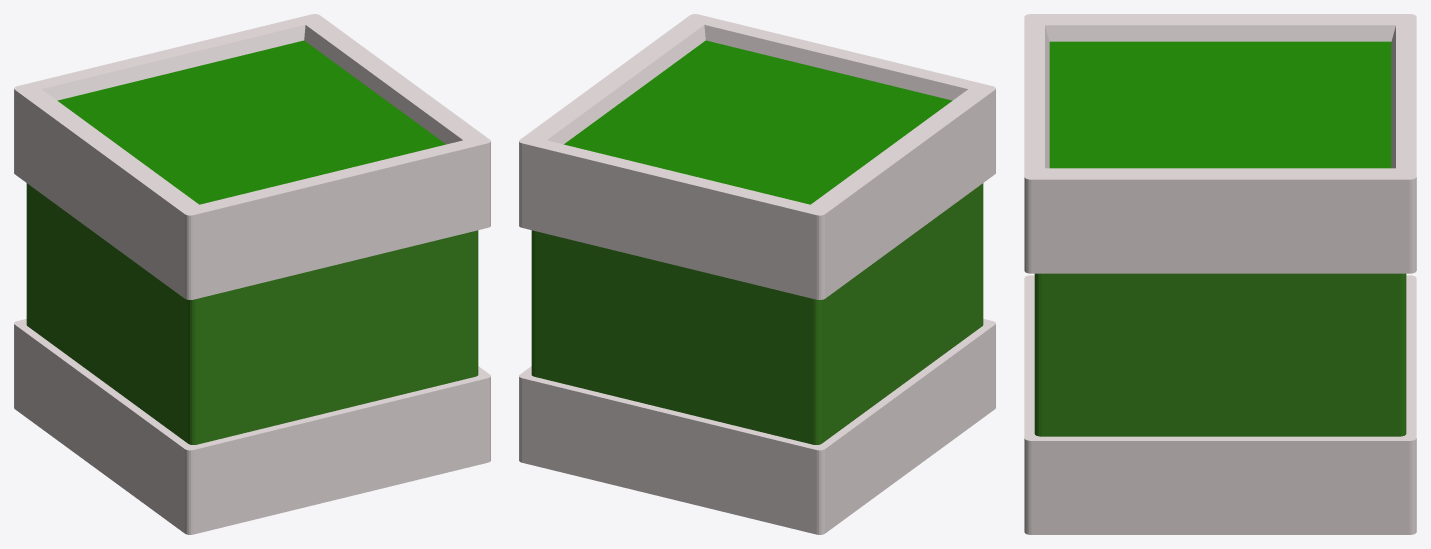
3 views of the same model, side by side, from view 1: azimuth 30°, elevation 25°; view 2: azimuth 150°, elevation 25°; view 3: azimuth 270°, elevation 25° (orthographic). The views are drawn at different scales.
Parts seen in each view (by area): view 1: Cube.002; view 2: Cube.002; view 3: Cube.002.
Boxes of the visible parts, x1=… form: Cube.002: x1=14, y1=14, x2=490, y2=534; Cube.002: x1=519, y1=14, x2=995, y2=534; Cube.002: x1=1024, y1=14, x2=1416, y2=534.
Size of the model in its own units: 200 by 200 by 200.
